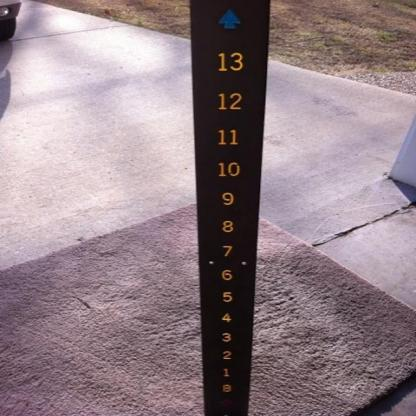1: (198, 367, 254, 377)
10: (192, 158, 262, 180)
11: (189, 124, 265, 146)
12: (189, 90, 267, 112)
13: (188, 48, 270, 73)
2: (199, 348, 252, 360)
3: (198, 330, 255, 343)
4: (196, 311, 256, 322)
5: (196, 289, 257, 303)
6: (195, 268, 257, 281)
7: (194, 243, 258, 257)
8: (193, 215, 260, 233)
9: (193, 187, 261, 208)
B: (198, 382, 251, 393)
up: (185, 9, 271, 29)
